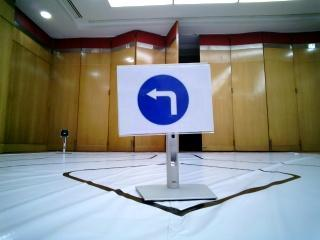left: (117, 66, 211, 132)
